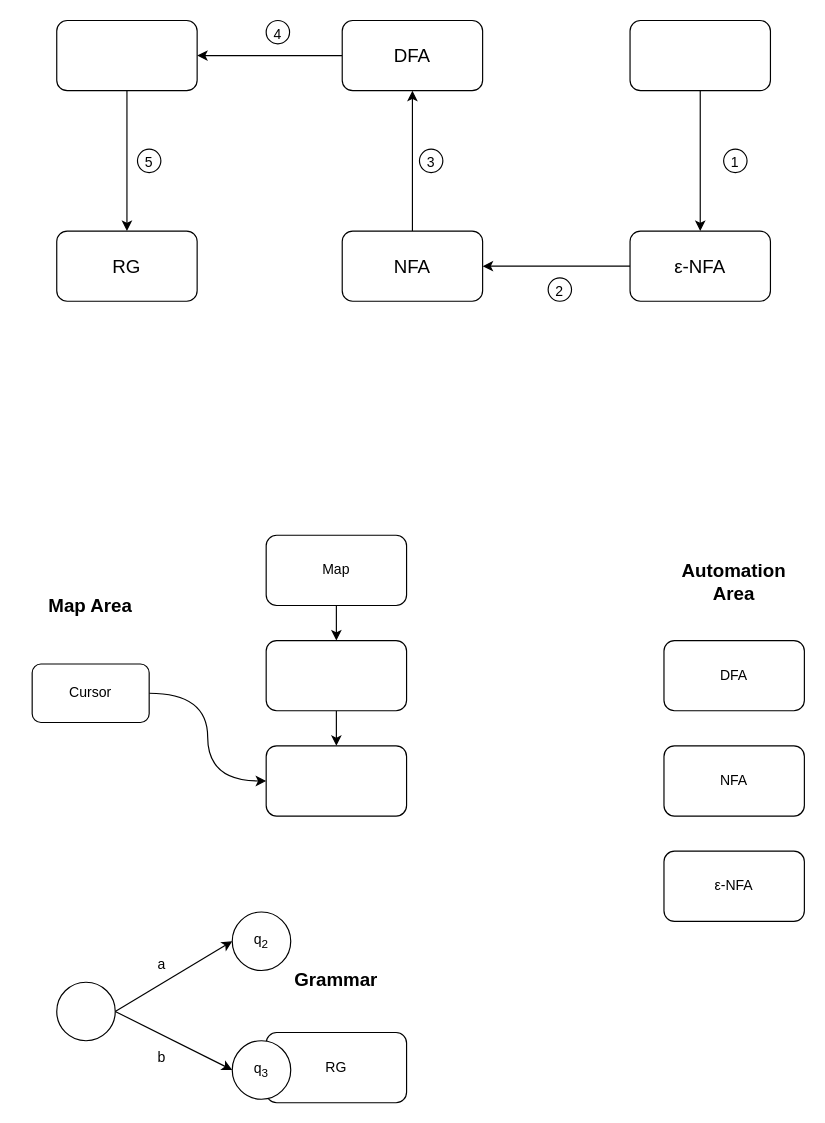
The diagram is 825 pixels wide and 1123 high, and some of its shapes have lost their labels. The shapes that lost their labels are listed below. From the top down, each one's centre as x and y in pixels, then its label:
At (126,55): "最小化DFA".
At (699,55): "FA".
At (336,675): "Edge".
At (336,780): "Node".
At (85,1011): "q 1".
